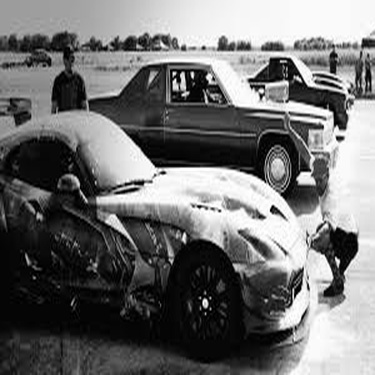car: (1, 92, 320, 366), (66, 55, 342, 206), (231, 43, 355, 140), (20, 40, 58, 70)
